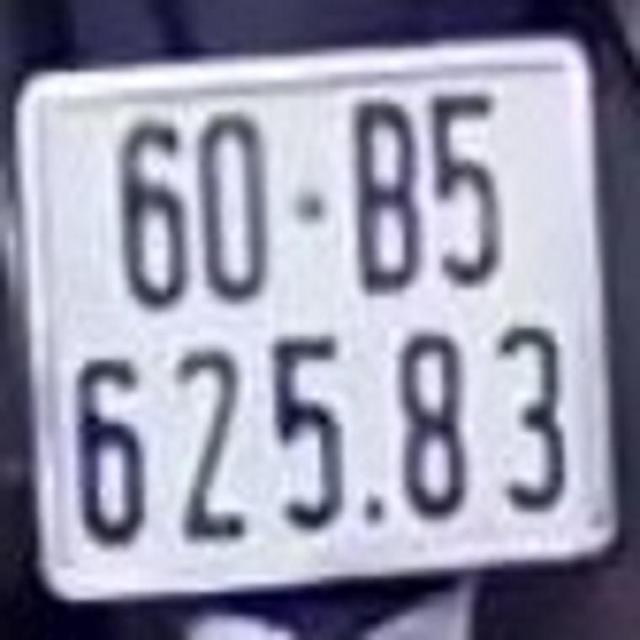0: (195, 106, 278, 305)
2: (167, 337, 250, 546)
3: (491, 318, 574, 512)
5: (265, 324, 353, 530), (429, 85, 508, 292)
6: (110, 110, 193, 308), (70, 348, 150, 544)
8: (388, 323, 475, 520)
B: (341, 92, 423, 296)
